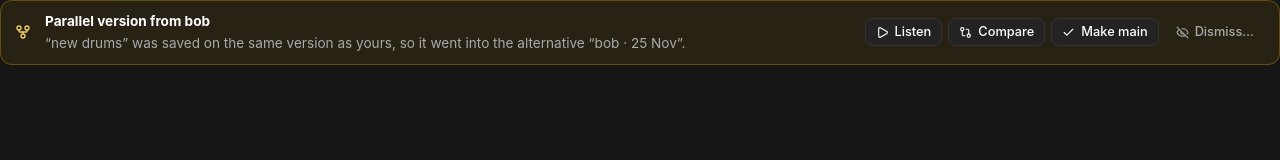
Test: ParallelVersionBanner › makes their version main after a confirmation, then reloads
Later steps or results of the test are not shown.
Step 1. Click the button "Make main" → x=1105, y=32, box [1051,18,1159,46]
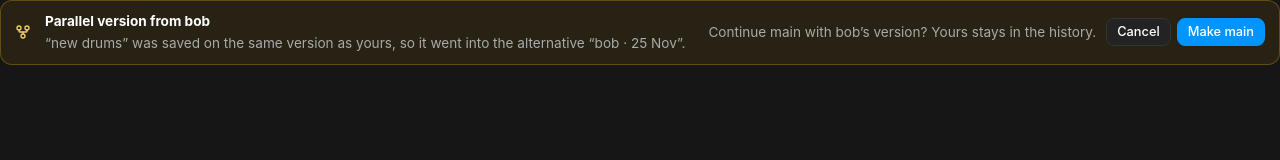
Result: the text "Continue main with bob’s version? Yours stays in the history." is shown at [708,22,1096,43]
